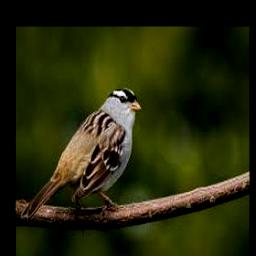Sparrow: (21, 87, 142, 222)
